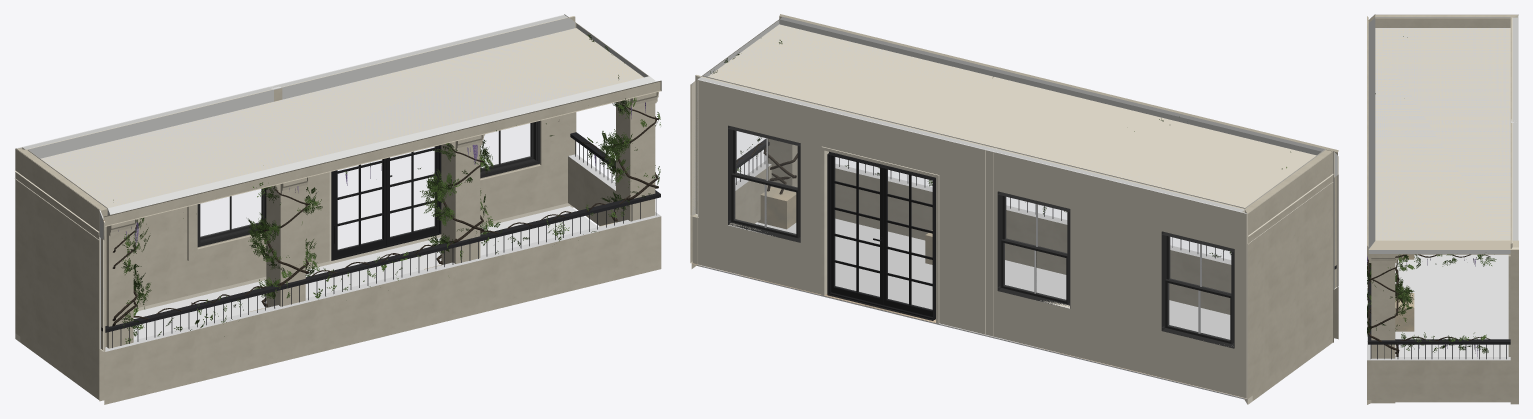
Rendered from front-balcony-31bb33f564b4.glb.
The picture shows the model from 3 angles, left to right: view 1: azimuth 30°, elevation 25°; view 2: azimuth 150°, elevation 25°; view 3: azimuth 270°, elevation 25°; orthographic projection. The views are drawn at different scales.
Visible parts, largest first — view 1: front-balcony-0ac23dde8d2f7c54, front-balcony-b39baa29700ae605, front-balcony-f6a7cfeba332478b, front-balcony-62353aa10fc57f23, front-balcony-b0ade14315e4f1c3, front-balcony-a23576649cd80f6c, front-balcony-dbd60ee5c3733ed6, front-balcony-24022e0f0167e9d7, front-balcony-d70d42a253f78e60, front-balcony-42fce09358828e49, front-balcony-41597b955207c1bc, front-balcony-f0f007964d256d2c (+10 smaller); view 2: front-balcony-b0ade14315e4f1c3, front-balcony-0ac23dde8d2f7c54, front-balcony-62353aa10fc57f23, front-balcony-b39baa29700ae605, front-balcony-dbd60ee5c3733ed6, front-balcony-60f0db96f832035a, front-balcony-b5cb73c07919def8, front-balcony-e1735639a83d20d7, front-balcony-42fce09358828e49, front-balcony-d70d42a253f78e60, front-balcony-f6a7cfeba332478b, front-balcony-a23576649cd80f6c (+7 smaller); view 3: front-balcony-0ac23dde8d2f7c54, front-balcony-f6a7cfeba332478b, front-balcony-dbd60ee5c3733ed6, front-balcony-dc9de07e6ba3b47a, front-balcony-a23576649cd80f6c, front-balcony-41597b955207c1bc, front-balcony-b0ade14315e4f1c3, front-balcony-62353aa10fc57f23, front-balcony-adb6f49a6d2cbec3, front-balcony-8ce6cdf114d83750, front-balcony-24022e0f0167e9d7, front-balcony-19165bb3a07bed8e (+3 smaller).
Part boxes in pixels (box(x1,y1,x2,y2)): front-balcony-0ac23dde8d2f7c54: box(28, 18, 656, 215); front-balcony-b39baa29700ae605: box(99, 215, 661, 404); front-balcony-f6a7cfeba332478b: box(41, 28, 640, 207); front-balcony-62353aa10fc57f23: box(15, 148, 107, 400); front-balcony-b0ade14315e4f1c3: box(16, 15, 575, 308); front-balcony-a23576649cd80f6c: box(112, 34, 660, 343); front-balcony-dbd60ee5c3733ed6: box(133, 206, 597, 340); front-balcony-24022e0f0167e9d7: box(103, 80, 661, 226); front-balcony-d70d42a253f78e60: box(334, 158, 385, 258); front-balcony-42fce09358828e49: box(386, 145, 440, 245); front-balcony-41597b955207c1bc: box(616, 102, 655, 222); front-balcony-f0f007964d256d2c: box(266, 187, 305, 307); front-balcony-b0ade14315e4f1c3: box(692, 75, 1247, 398); front-balcony-0ac23dde8d2f7c54: box(702, 17, 1325, 208); front-balcony-62353aa10fc57f23: box(1244, 149, 1332, 404); front-balcony-b39baa29700ae605: box(835, 163, 1338, 342); front-balcony-dbd60ee5c3733ed6: box(701, 218, 1244, 399); front-balcony-60f0db96f832035a: box(1161, 231, 1234, 348); front-balcony-b5cb73c07919def8: box(997, 191, 1070, 308); front-balcony-e1735639a83d20d7: box(728, 125, 800, 242); front-balcony-42fce09358828e49: box(831, 155, 883, 304); front-balcony-d70d42a253f78e60: box(883, 168, 932, 316); front-balcony-f6a7cfeba332478b: box(709, 24, 1252, 204); front-balcony-a23576649cd80f6c: box(710, 40, 1290, 264); front-balcony-0ac23dde8d2f7c54: box(1368, 17, 1510, 253); front-balcony-f6a7cfeba332478b: box(1368, 28, 1510, 254); front-balcony-dbd60ee5c3733ed6: box(1395, 254, 1510, 402); front-balcony-dc9de07e6ba3b47a: box(1367, 357, 1510, 399); front-balcony-a23576649cd80f6c: box(1367, 36, 1496, 356); front-balcony-41597b955207c1bc: box(1371, 264, 1395, 403); front-balcony-b0ade14315e4f1c3: box(1510, 15, 1518, 399); front-balcony-62353aa10fc57f23: box(1375, 15, 1518, 27); front-balcony-adb6f49a6d2cbec3: box(1510, 248, 1518, 360); front-balcony-8ce6cdf114d83750: box(1374, 339, 1510, 344); front-balcony-24022e0f0167e9d7: box(1367, 16, 1368, 254); front-balcony-19165bb3a07bed8e: box(1508, 254, 1510, 356).
Size of the model in its own units: 9.14 by 3 by 2.55.
23 materials, 7 textured.
